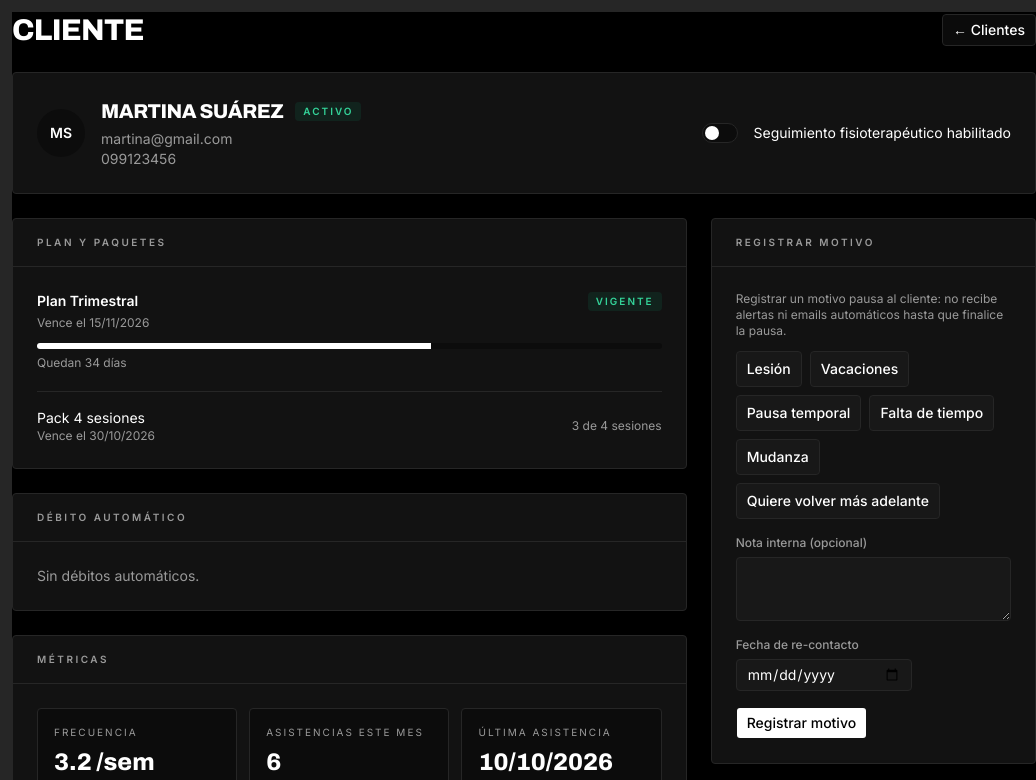
Test case: ClientDetail refresh, ids and validation › reloads a stale screen when a pause already exists (PAUSE_ALREADY_ACTIVE)
Step 1. Click the button "Lesión" → (769, 369), box [736,351,802,387]
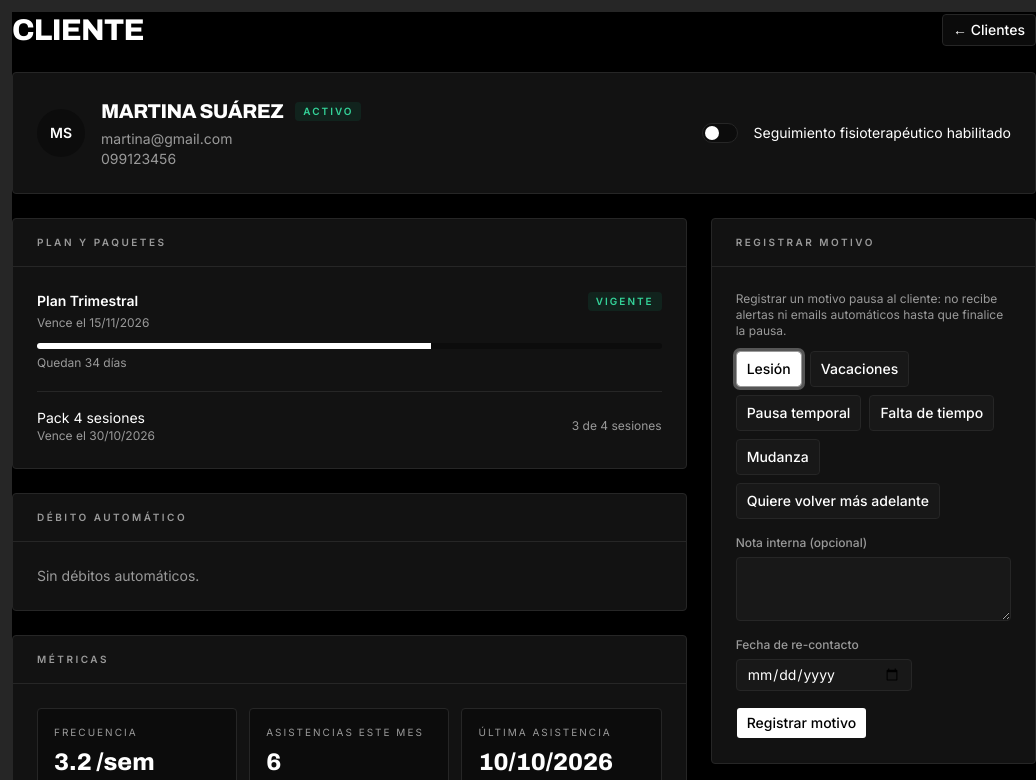
Step 2. Click the button "Registrar motivo" → (801, 723), box [736,707,867,739]
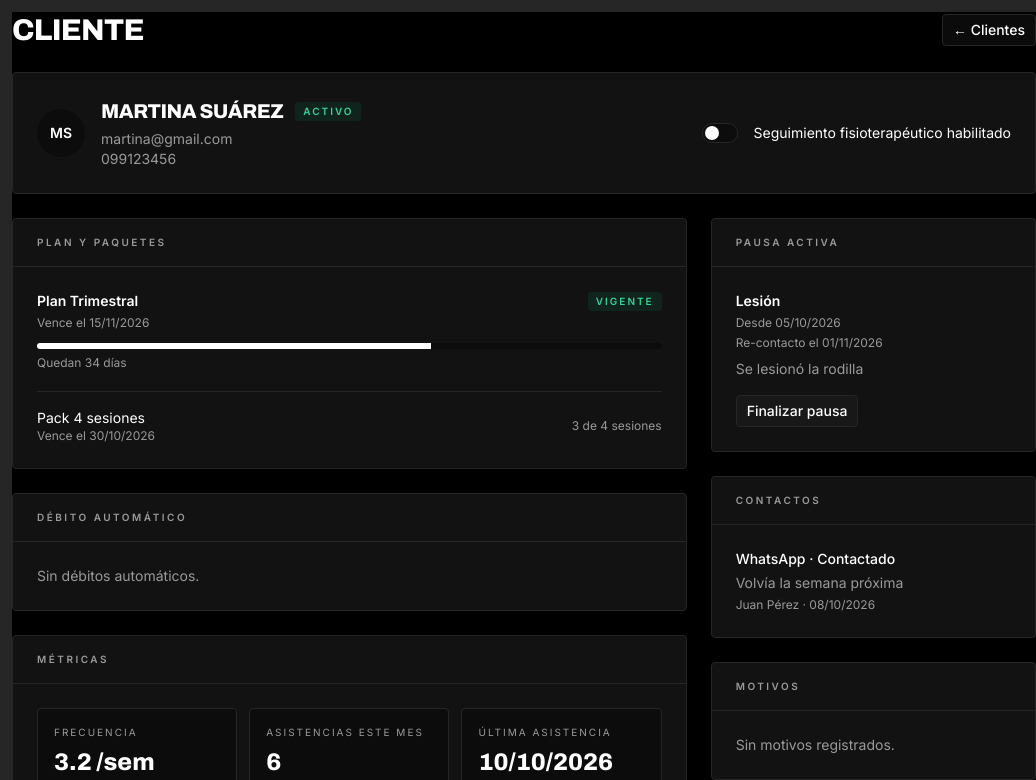
Result: the button "Finalizar pausa" is shown at [736,395,858,427]
